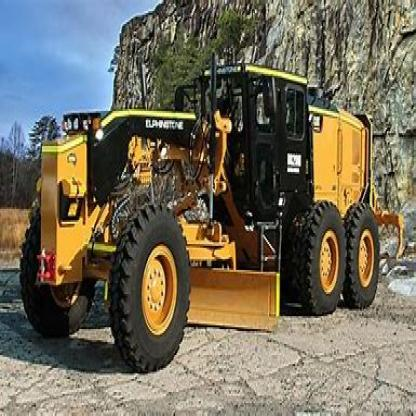bull_dozer/loader/grader: (17, 37, 385, 372)
